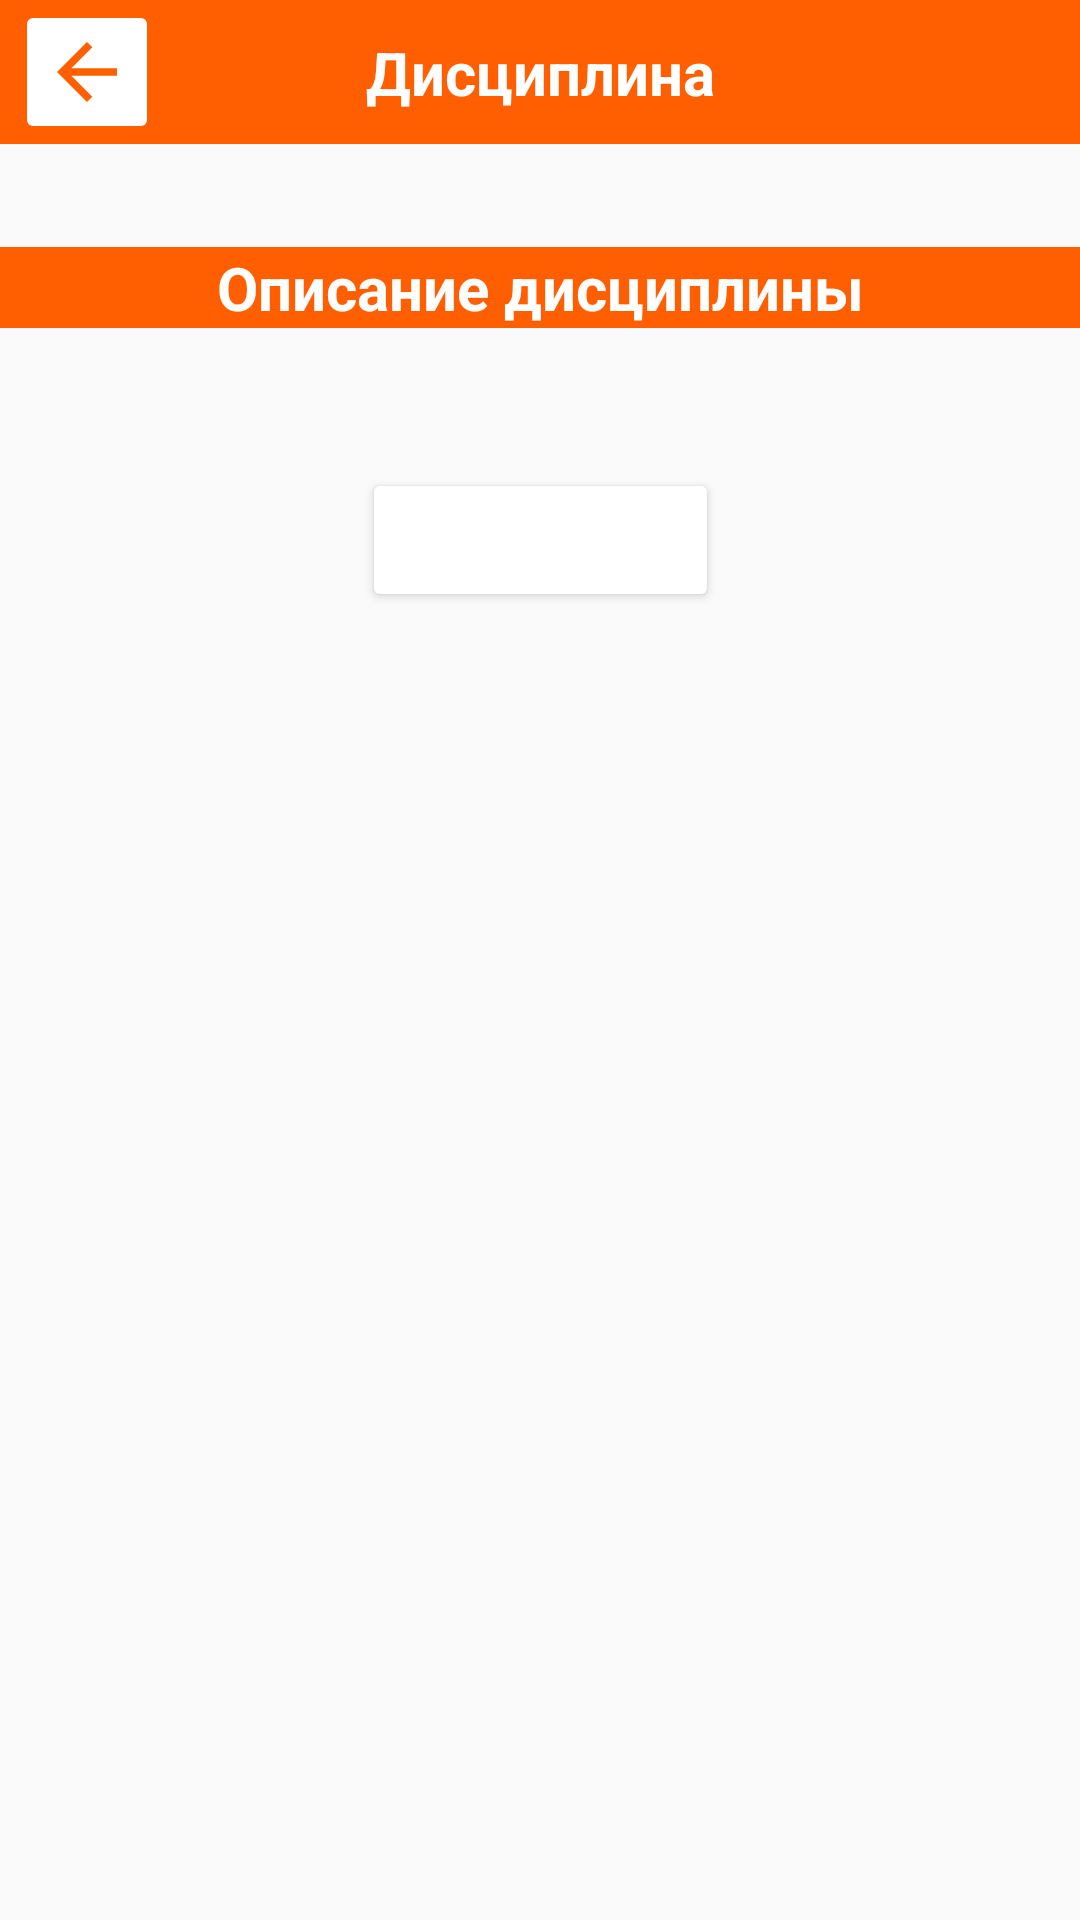

Where icons sit on this 1080w x 1920h app screen, as (x1, y1, x2, y2):
go back to home page: (27, 18, 147, 126)
